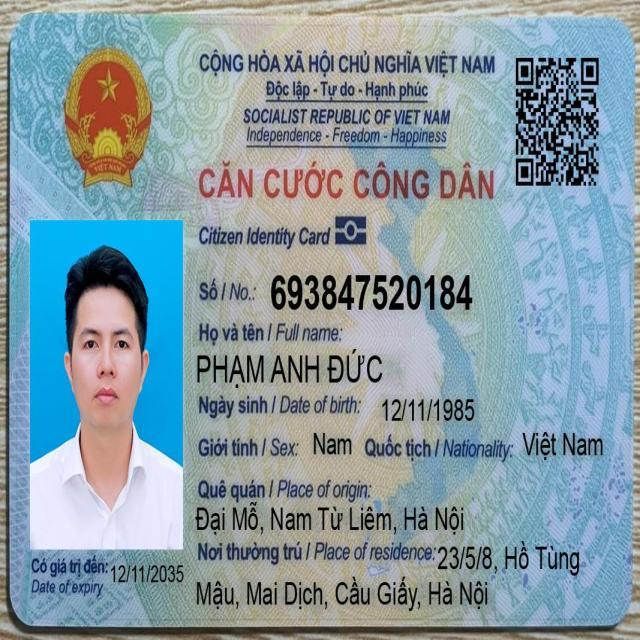current_place: (193, 575, 493, 616), (434, 537, 583, 579)
dob: (379, 392, 479, 429)
expire_date: (108, 558, 188, 588)
gender: (309, 427, 355, 463)
id: (266, 266, 477, 319)
name: (193, 345, 386, 393)
nationality: (520, 425, 606, 465)
origin_place: (191, 496, 468, 539)
qr: (511, 51, 605, 197)
